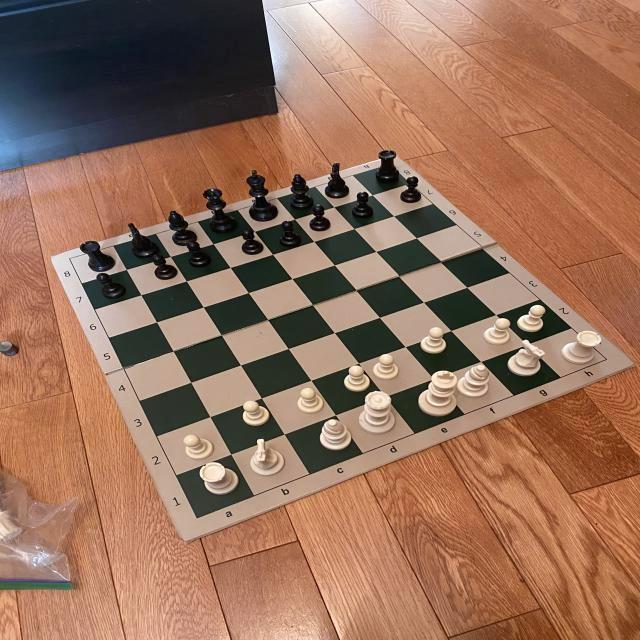chess-table-corners: (185, 508, 208, 526), (602, 355, 612, 363), (66, 256, 76, 261)
